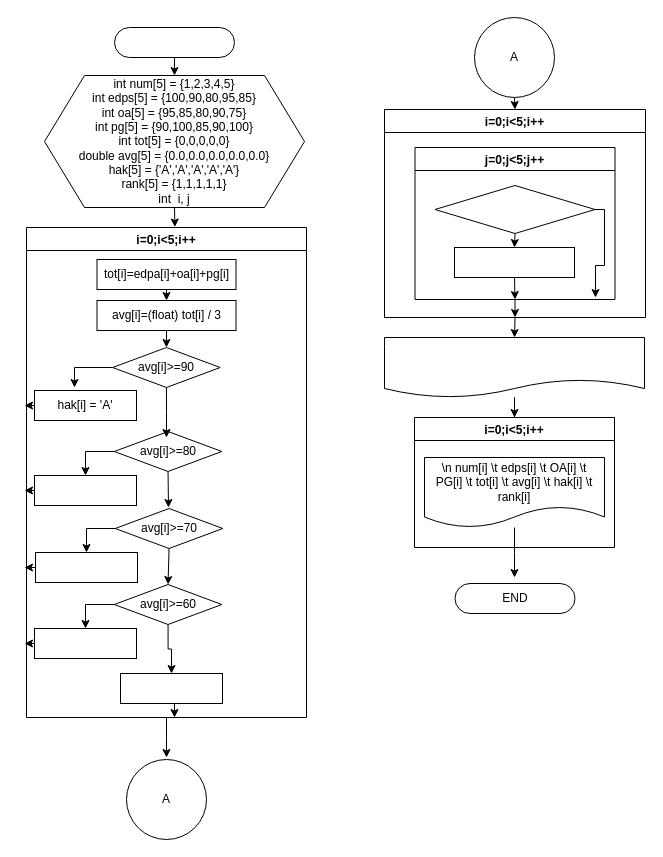
This 663x857 diagram has some shape labels left out. Each missing label, with the centre of its shape:
"번호\tEDPS\tOA\tPG\t총점\t평균\t학점\t석차": point 514,367
hak[i] = 'B': point 85,490
hak[i] = 'C': point 86,567
hak[i] = 'D': point 85,643
hak[i] = 'F': point 171,688
rank[i]++: point 514,262
SCORE START: point 174,42
tot[i] < tot[j]: point 514,209
